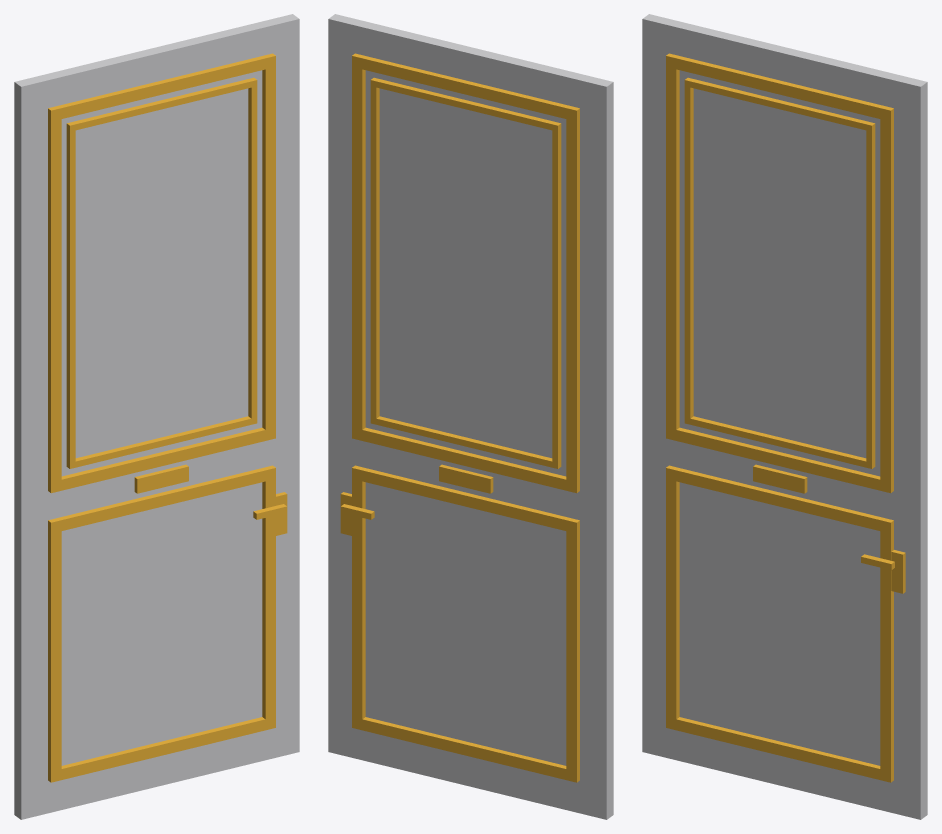
The model's file is SM_Door_obelisk_inner_120x300.fbx.
3 renders of one model, left to right at view 1: azimuth 30°, elevation 25°; view 2: azimuth 150°, elevation 25°; view 3: azimuth 330°, elevation 25°, orthographic.
Visible parts, largest first — view 1: SM_Door_obelisk_inner_120x300; view 2: SM_Door_obelisk_inner_120x300; view 3: SM_Door_obelisk_inner_120x300.
Boxes of the visible parts, x1,y1,x2,y2 form: SM_Door_obelisk_inner_120x300: (14,14,299,819); SM_Door_obelisk_inner_120x300: (328,14,613,819); SM_Door_obelisk_inner_120x300: (642,14,927,819).
Bounding box in the file's own units: 1.19 × 2.99 × 0.175.
